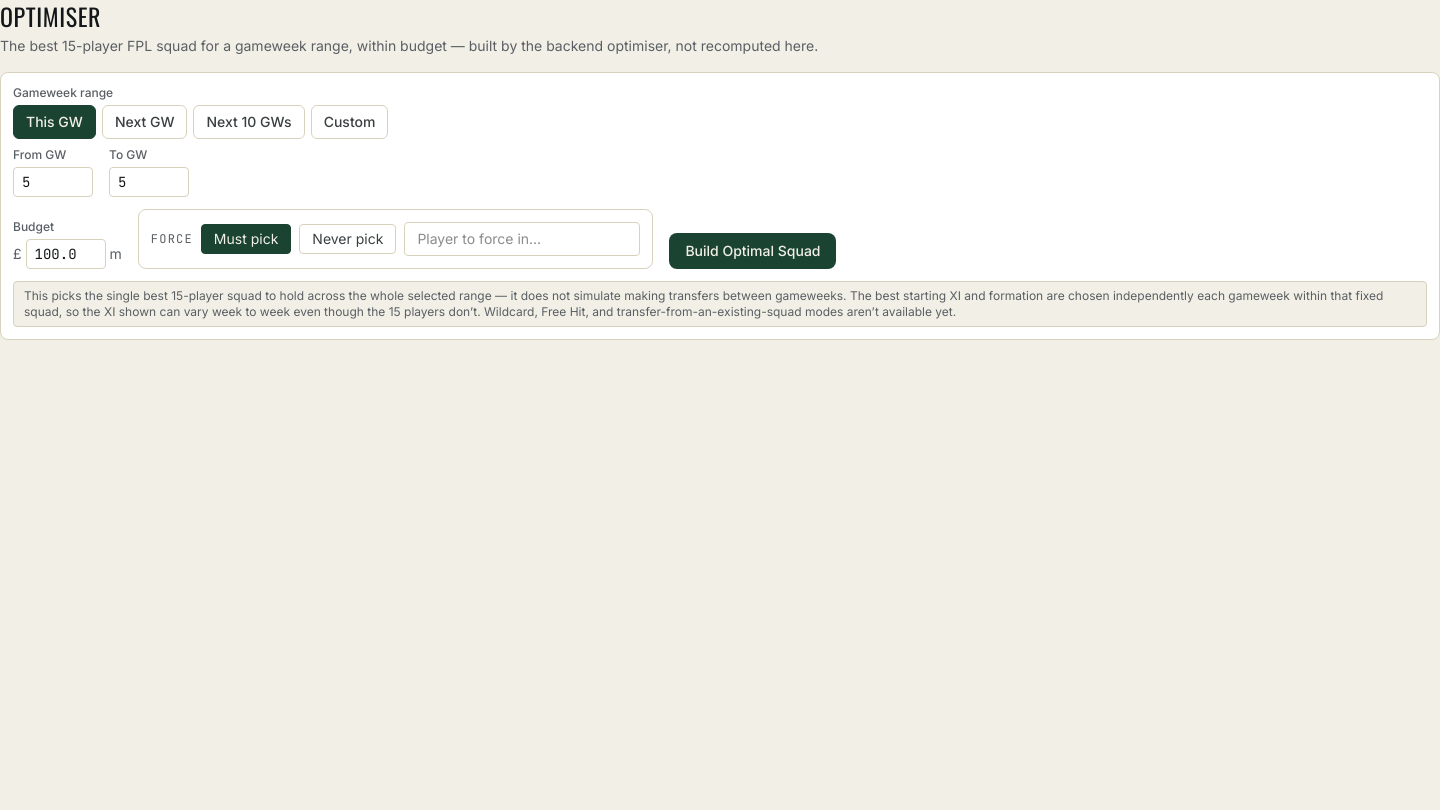
Test: OptimalSquadPage › lets the user switch which gameweek the pitch shows, and toggle to a table view
Expected: the button "This GW" is shown, [13,105,96,139]
Click the button "Build Optimal Squad" at (753,251), box [669,233,836,269]
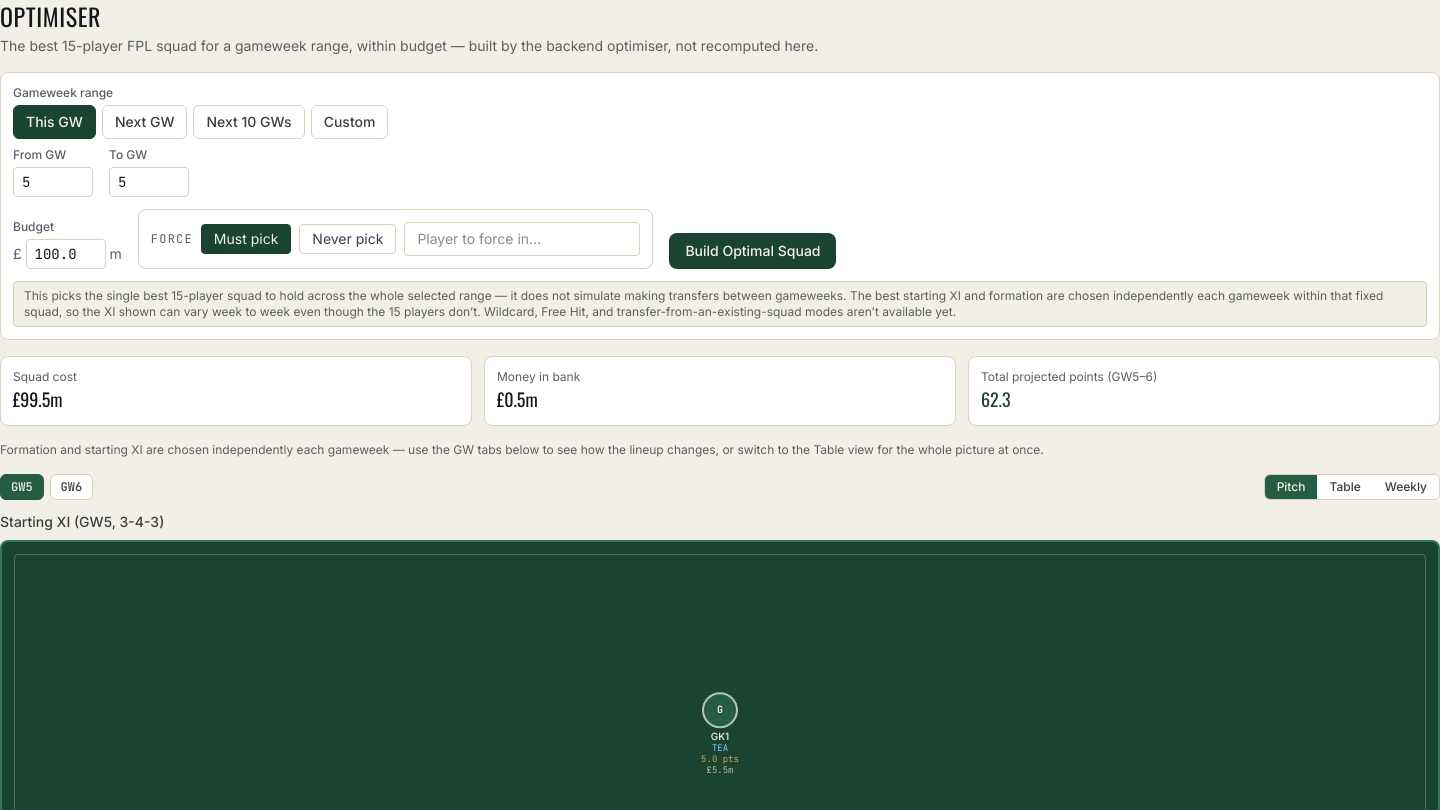
Expected: the heading "Starting XI (GW5, 3-4-3)" is shown, [0,513,164,530]
// Switch to GW6 via its tab -- the XI genuinely changes (CheapDef now starts).
Click the button "GW6" at (71,487), box [50,474,93,500]
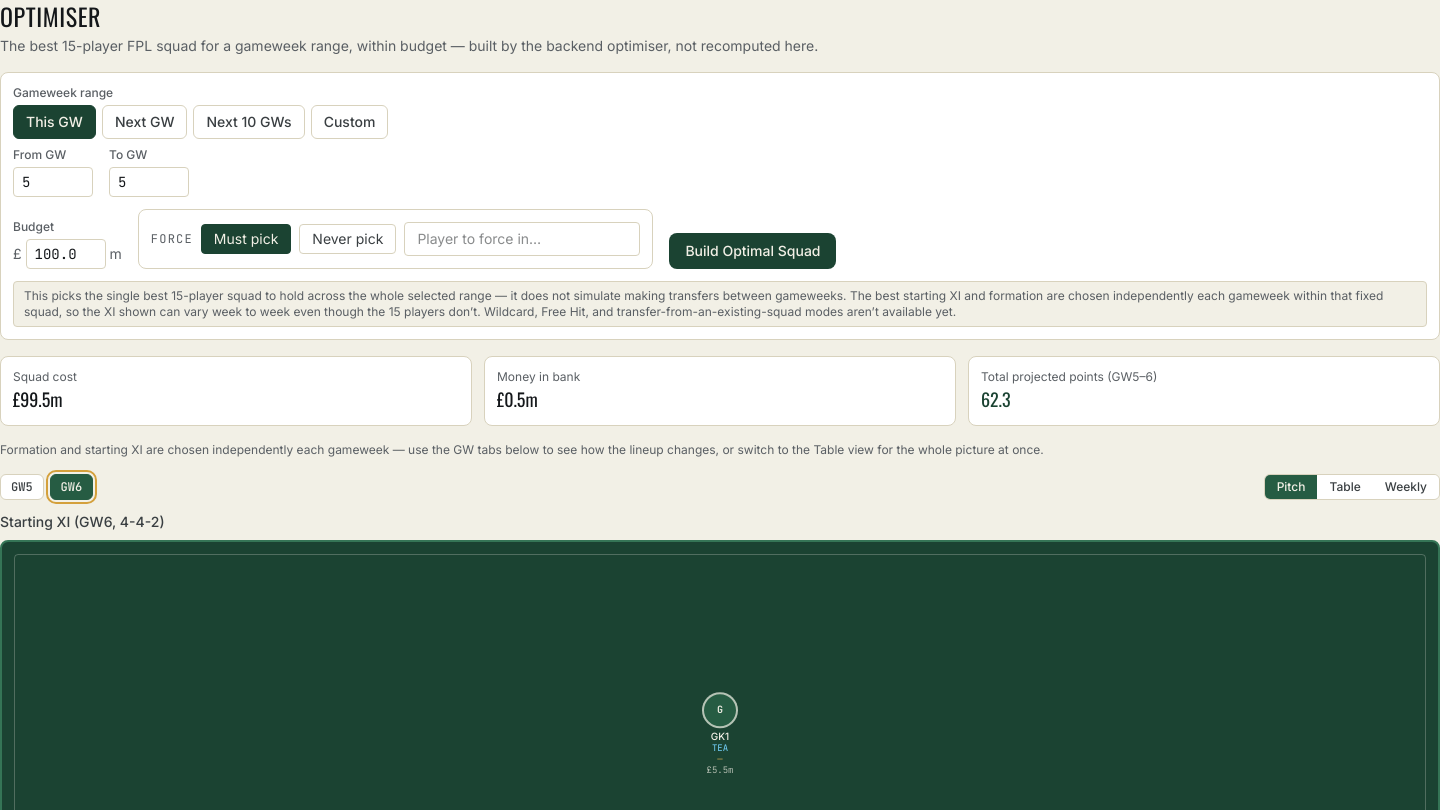
Expected: the heading "Starting XI (GW6, 4-4-2)" is shown, [0,513,165,530]
// Table view shows every week at once, including bench status per week.
Click the button "Table" at (1345,487), box [1318,475,1373,499]
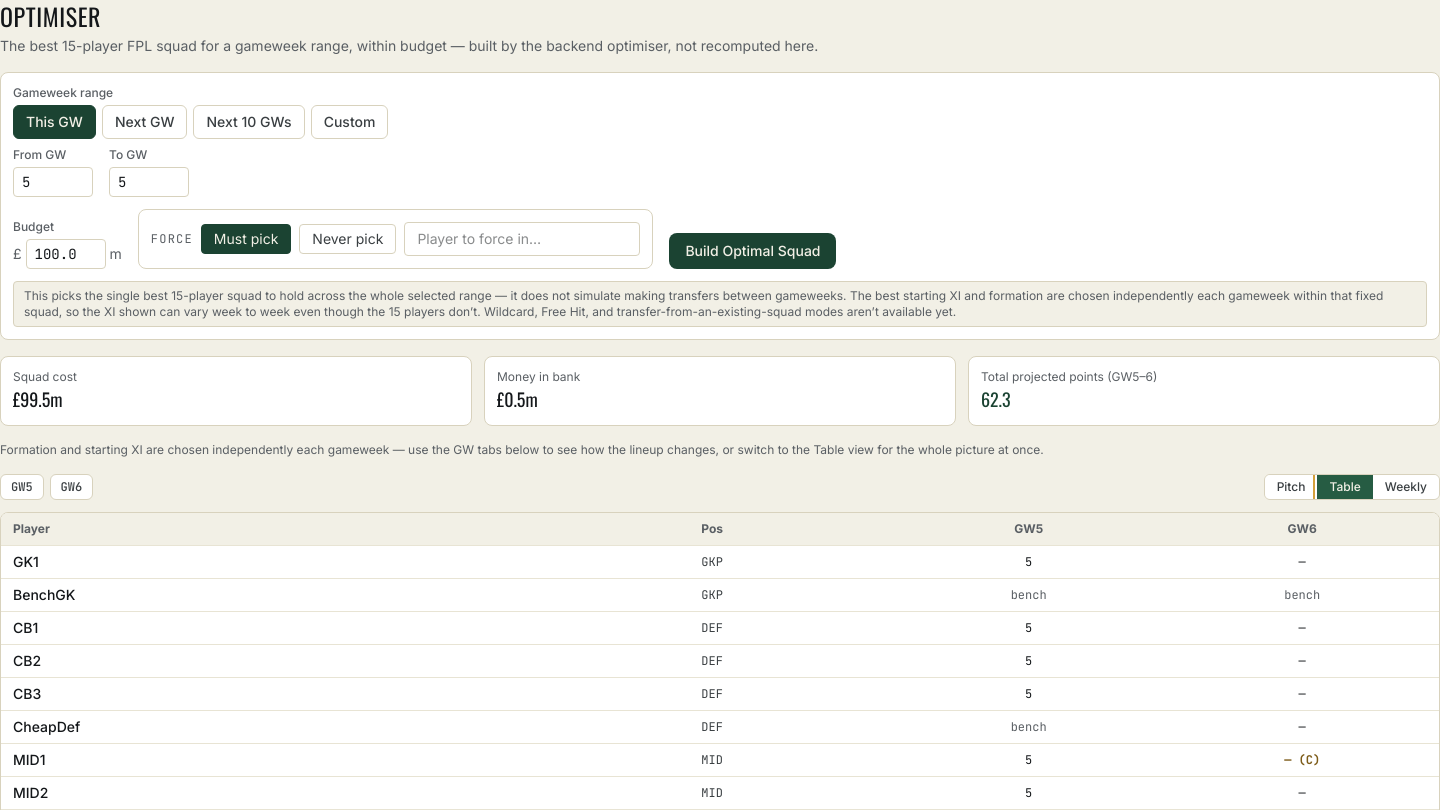
Expected: the 1st text "bench" is shown, [1011,587,1047,603]
